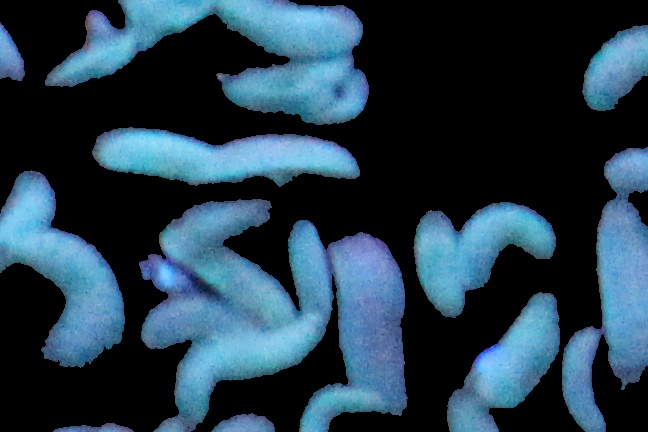larvae: (1, 238, 132, 380), (332, 229, 412, 421), (175, 314, 321, 415), (159, 228, 292, 323), (468, 287, 558, 411), (220, 58, 371, 126), (595, 201, 648, 385), (139, 292, 271, 356), (461, 209, 554, 297), (218, 1, 363, 54), (200, 138, 356, 185), (581, 23, 648, 112), (92, 131, 207, 182), (418, 205, 469, 313), (282, 223, 335, 320), (562, 327, 609, 432), (1, 173, 51, 268), (291, 387, 396, 432), (314, 70, 372, 126)
